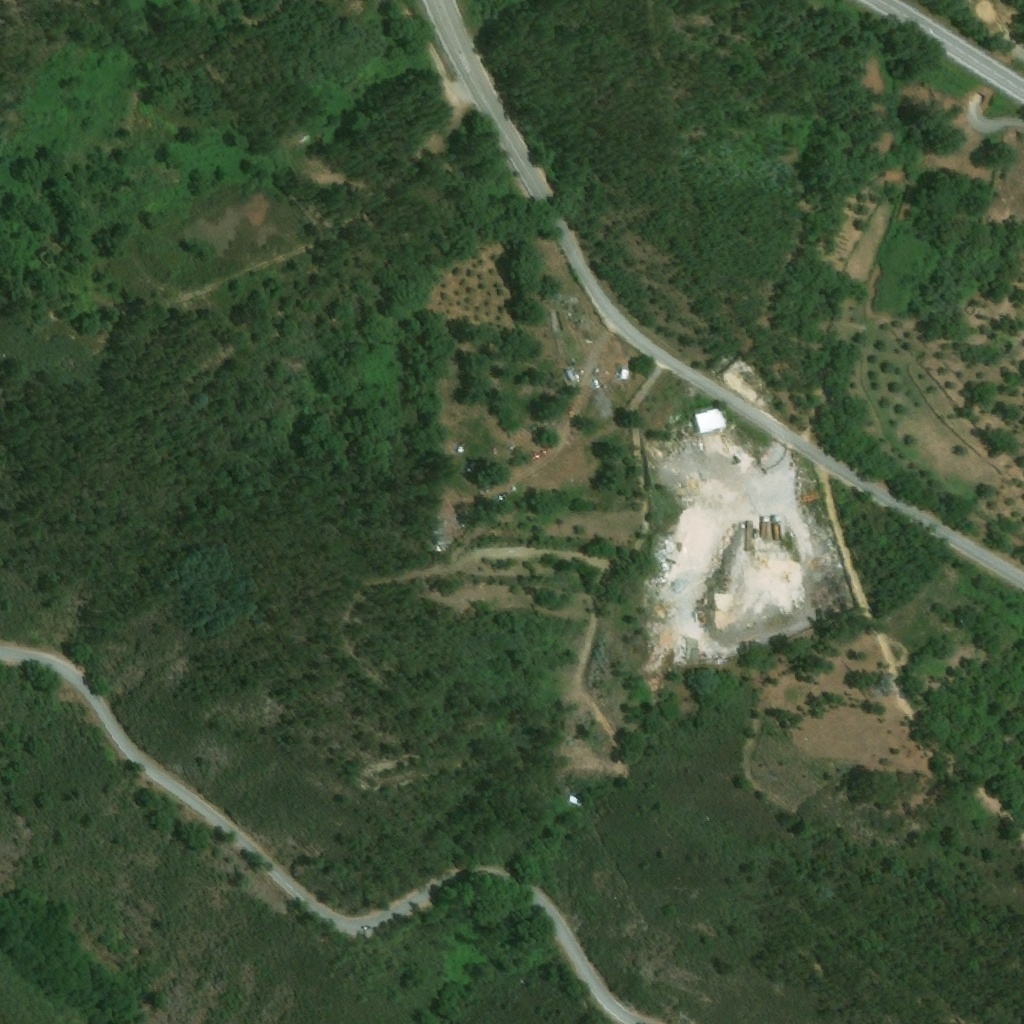0 no-damage: (693, 405, 730, 435), (567, 795, 585, 809)
3 destroyed: (430, 493, 448, 511)
